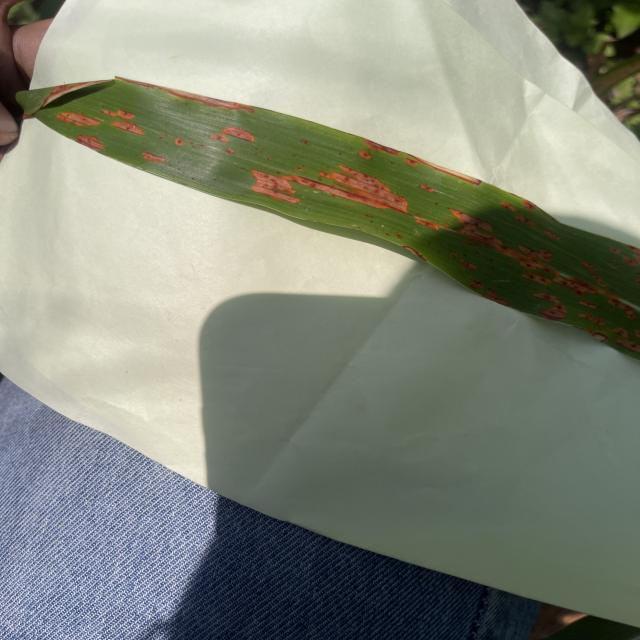millet_rust: (12, 76, 640, 357)
